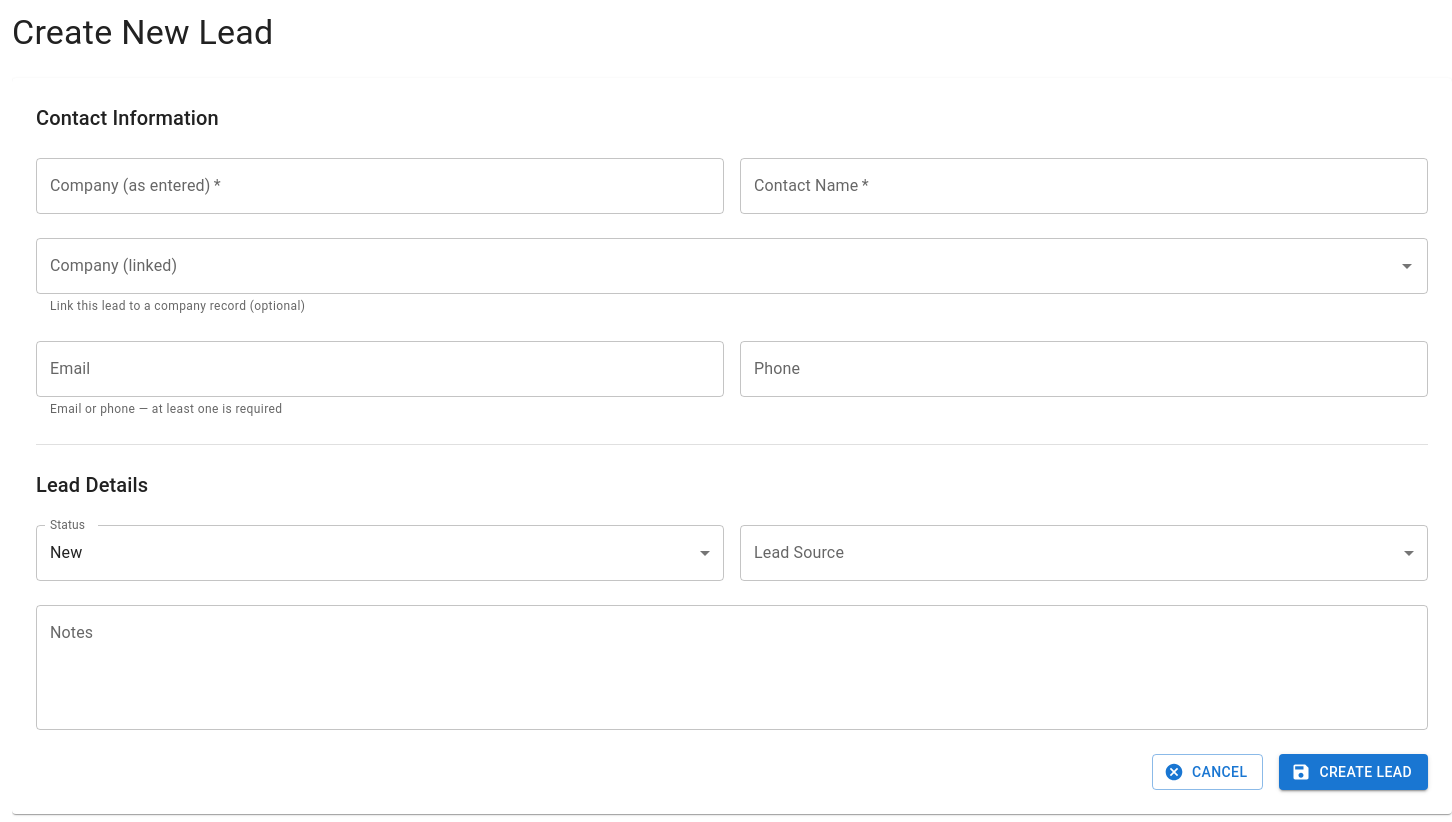
Test case: LeadForm › Create Mode › does not overwrite a free-text company the user already typed
In the field labelled "Company (as entered) *": {"x": 380, "y": 186} [36,158,724,214], type "Acme (Cluj branch)"
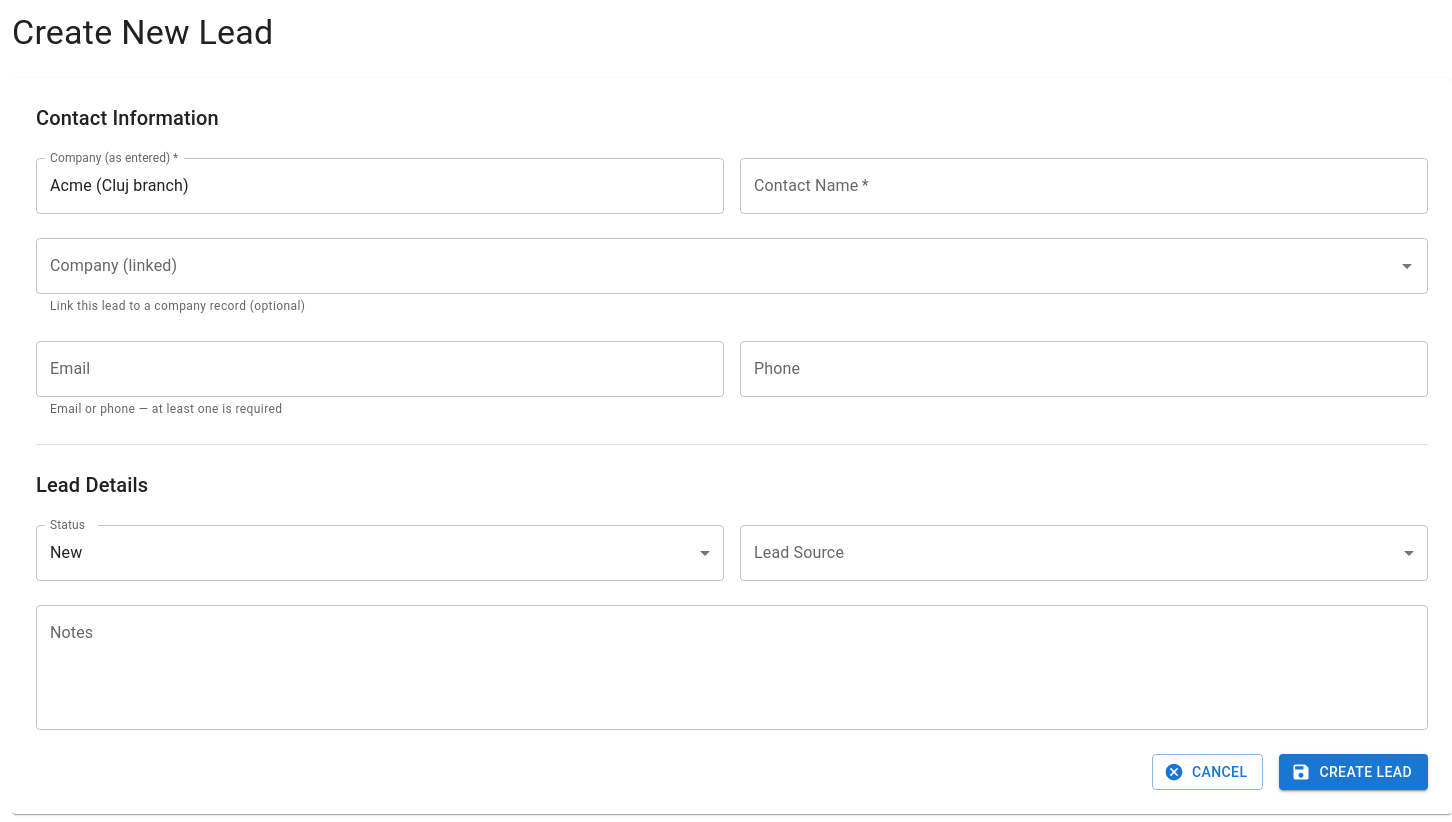
Press the mouse on the dropdown labelled "Company (linked)": {"x": 717, "y": 266} [45,247,1389,285]
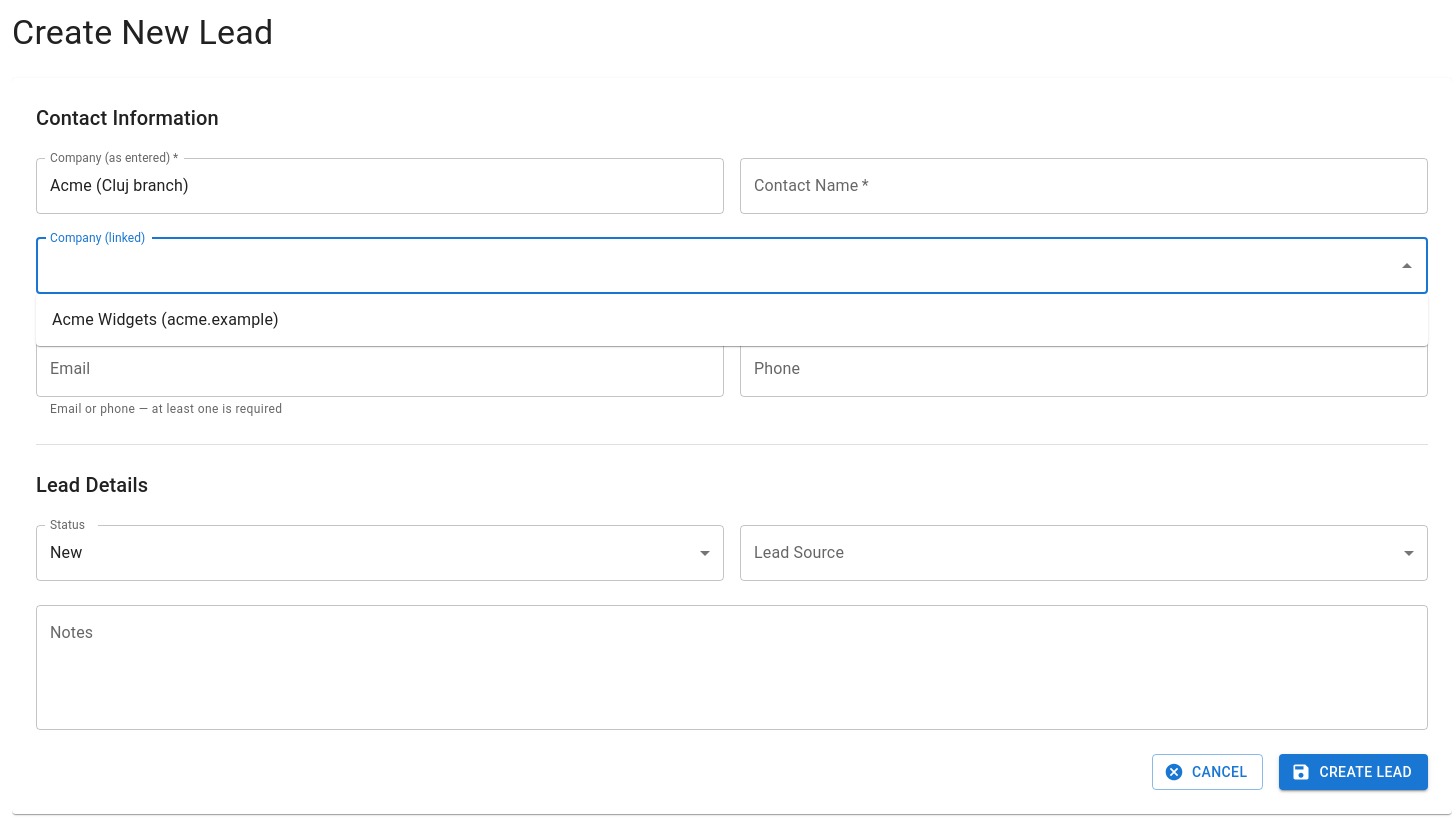
Click the option "Acme Widgets (acme.example)": {"x": 165, "y": 320} [52,310,279,329]
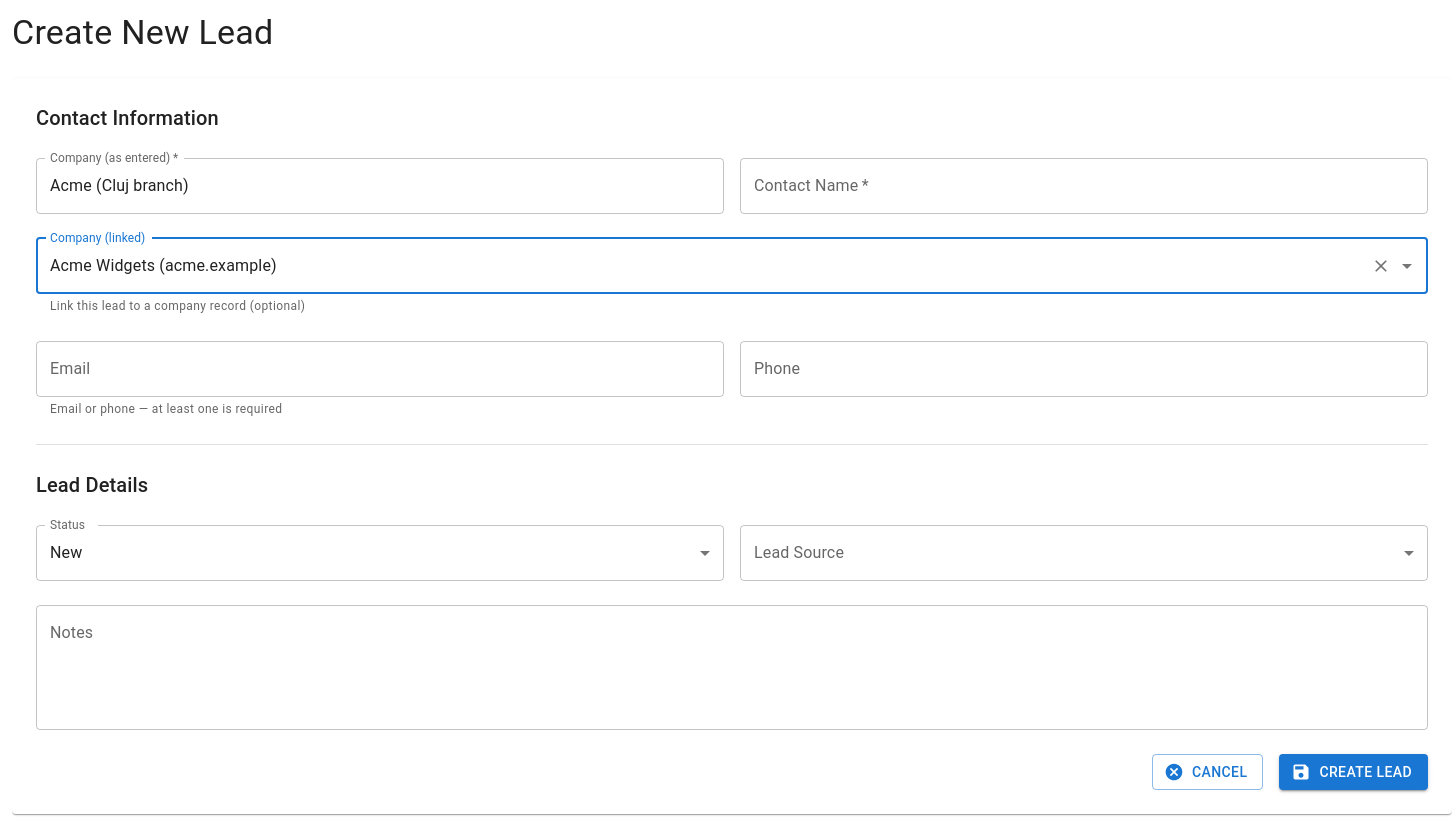
Result: the dropdown labelled "Company (linked)" holds "Acme Widgets (acme.example)" at [45,247,1363,285]
